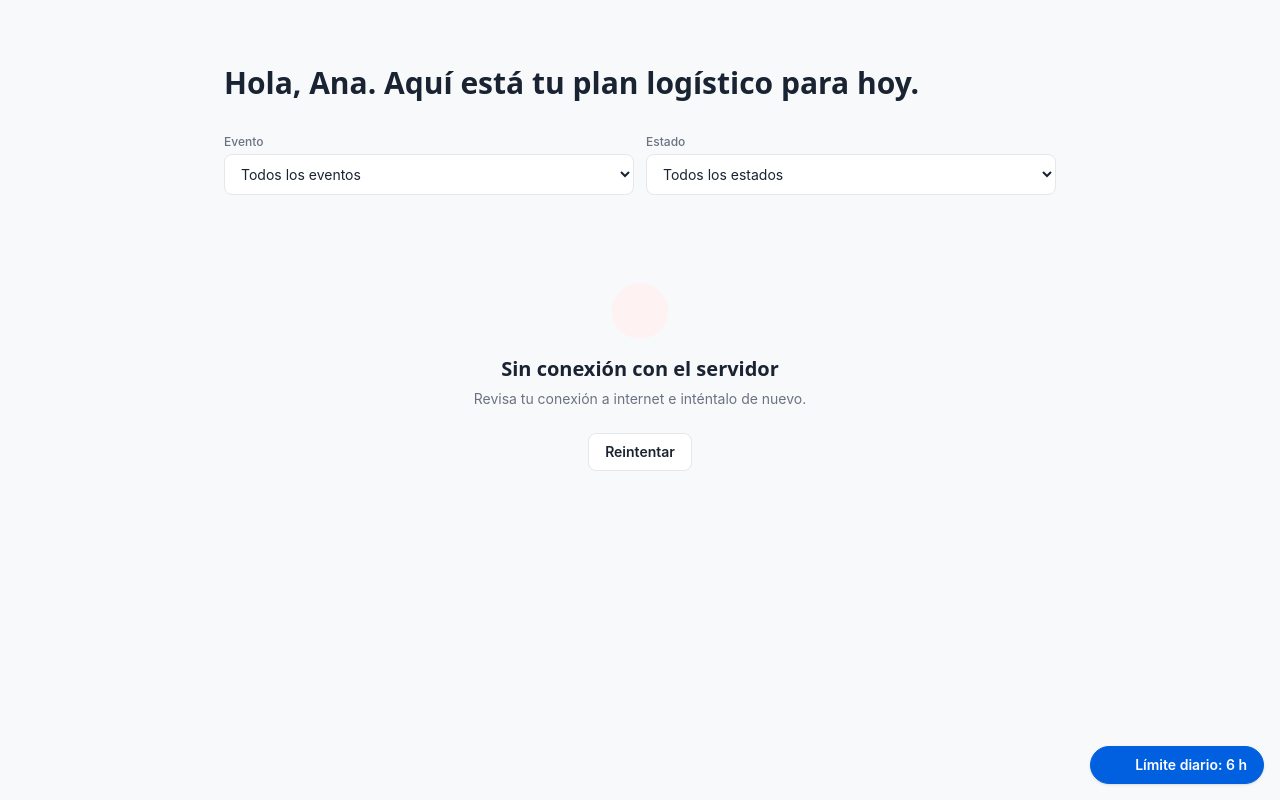
Test: TodayPage › presenta el estado de error y vuelve a intentar la carga
This screenshot has width=1280, height=800.
Expected: the heading "Sin conexión con el servidor" is shown, [501, 354, 779, 382]
Step 1. Click the button "Reintentar" → (640,452), box [588, 432, 692, 470]
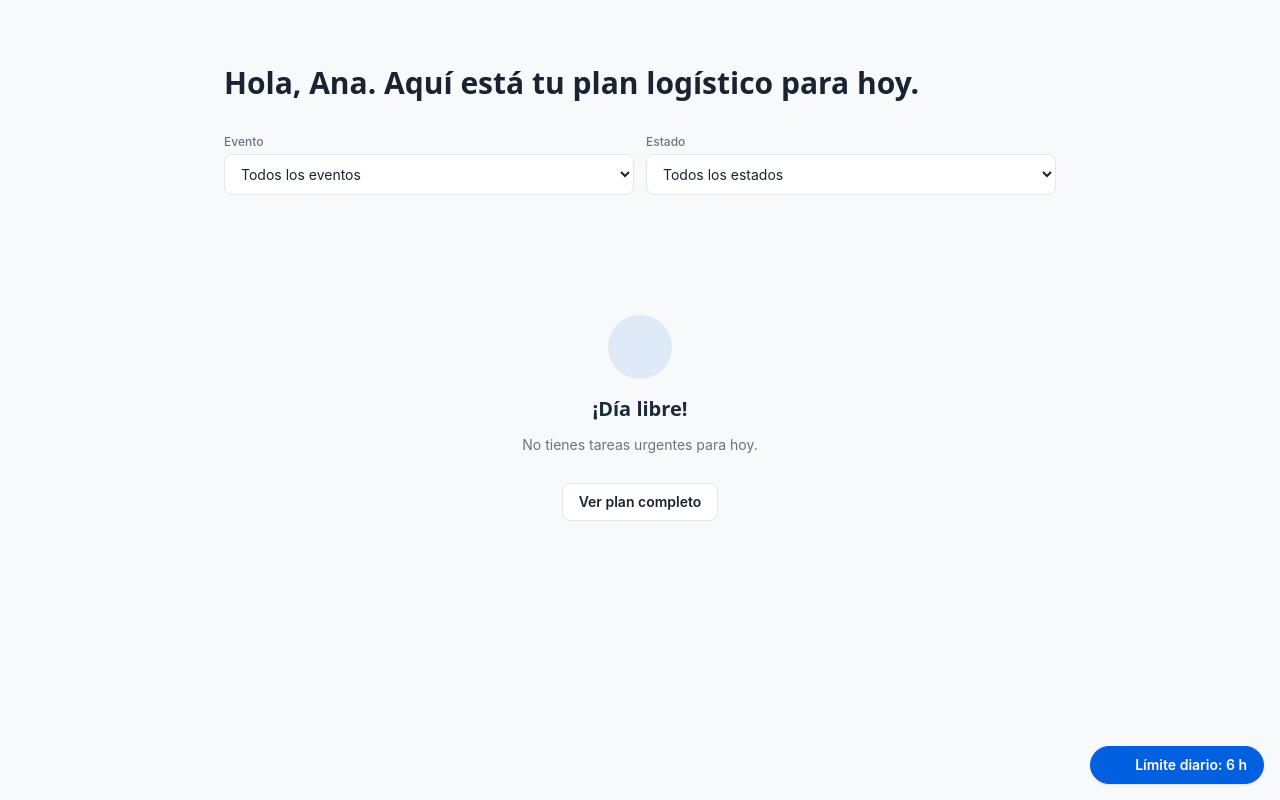
Expected: the heading "¡Día libre!" is shown, [592, 394, 688, 422]
